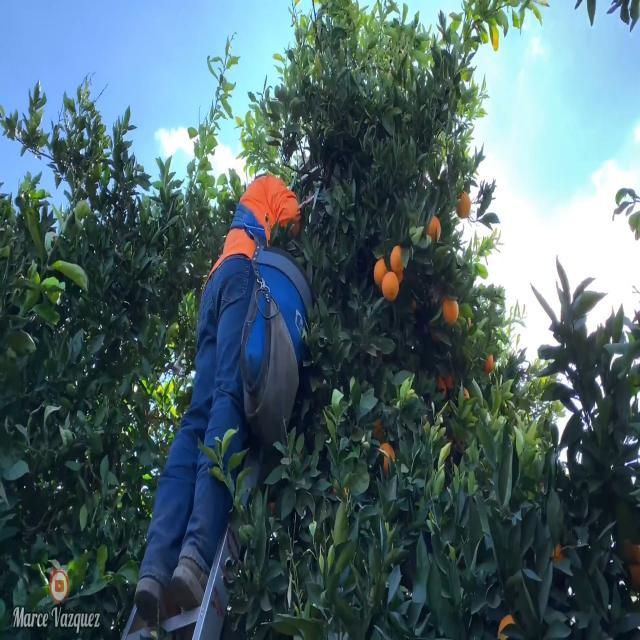Jeruk Sudah Matang: (440, 286, 461, 329), (380, 266, 401, 306), (386, 239, 408, 276), (377, 436, 397, 476), (426, 210, 444, 248), (456, 188, 474, 226), (372, 250, 388, 288), (482, 347, 497, 375)
